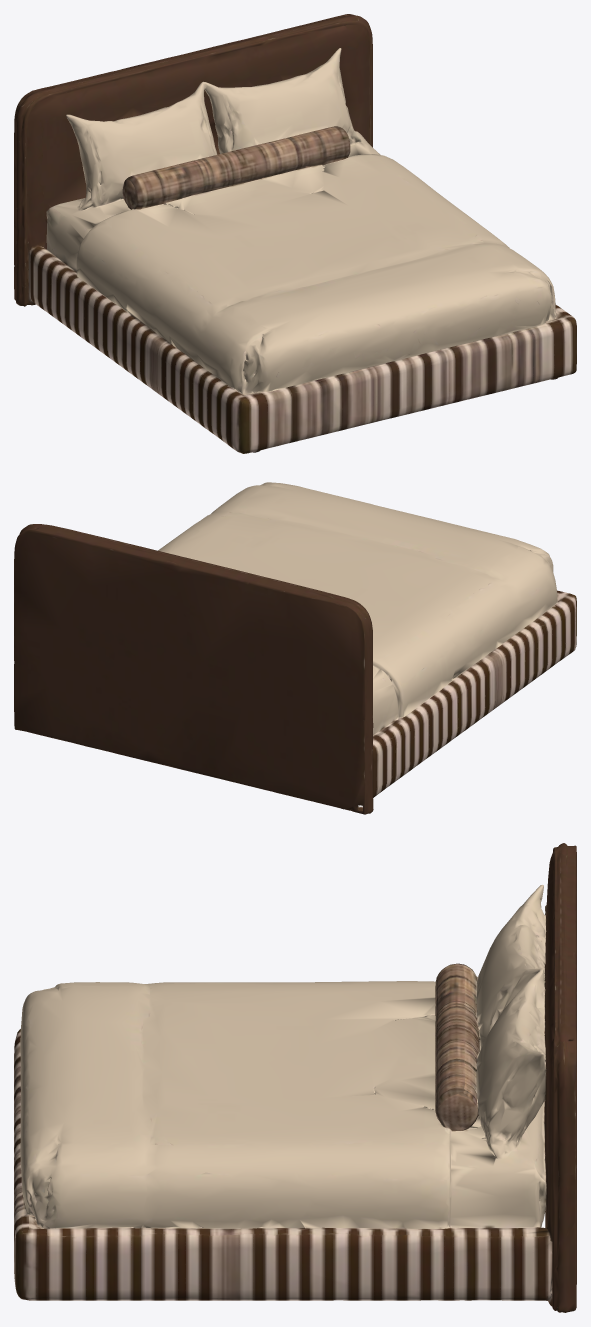
The model's file is striped-upholstered-daybed.glb.
3 views of the same model, one above another, from view 1: azimuth 30°, elevation 25°; view 2: azimuth 150°, elevation 25°; view 3: azimuth 270°, elevation 25° (orthographic). The views are drawn at different scales.
Parts seen in each view (by area): view 1: world; view 2: world; view 3: world.
Part boxes in pixels (x1,y1,x2,y2): world: (14, 14, 576, 453); world: (14, 482, 576, 814); world: (14, 843, 576, 1312).
Size of the model in its own units: 0.9244 by 0.5231 by 1.
Materials: 1 (1 with a texture image).
